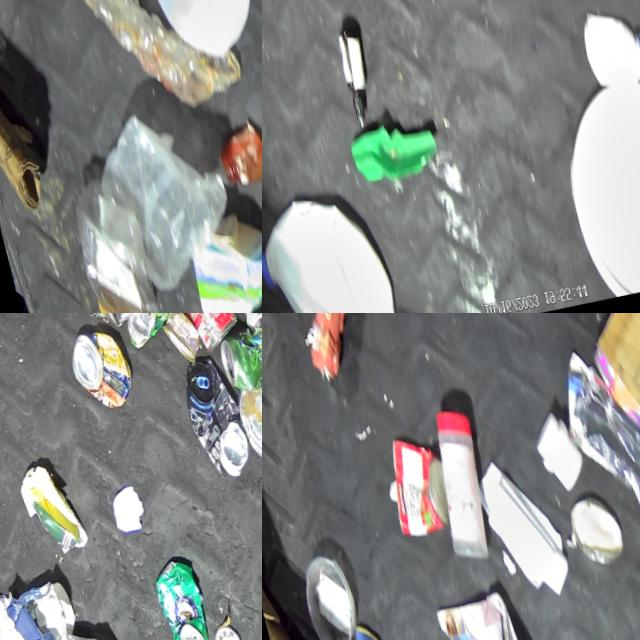can: (170, 355, 250, 485), (373, 446, 450, 546), (59, 326, 134, 416), (140, 557, 206, 640), (150, 313, 240, 358), (208, 325, 262, 397), (228, 384, 262, 476), (152, 313, 200, 367), (112, 313, 177, 350), (228, 313, 262, 360), (341, 617, 400, 640), (200, 623, 239, 640)
milk_jug: (262, 172, 392, 313), (104, 0, 262, 70)
